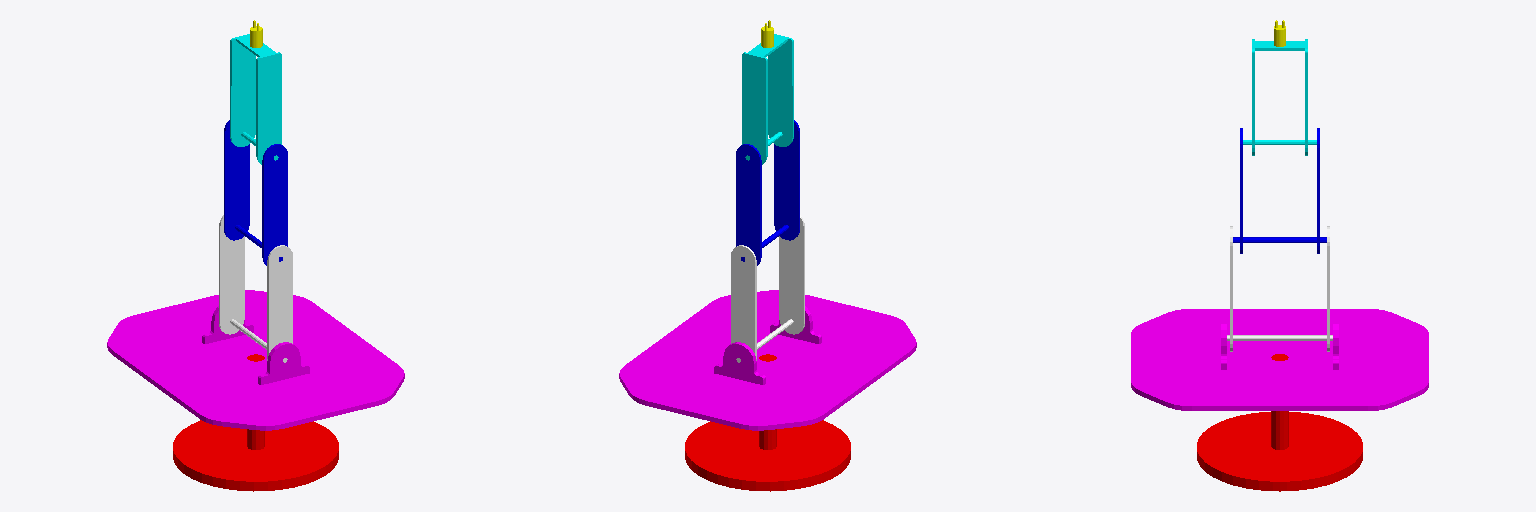
URDF robot description (five_dof):
<robot
  name="five_dof">
  <link
    name="base_link">
    <inertial>
      <origin
        xyz="0 0 0"
        rpy="0 0 0" />
      <mass
        value="0.718344795197391" />
      <inertia
        ixx="0.00272700103043121"
        ixy="8.12077533335742E-35"
        ixz="4.18350543794516E-19"
        iyy="0.0027270010304312"
        iyz="-1.00492647903297E-35"
        izz="0.00449649437672456" />
    </inertial>
    <visual>
      <origin
        xyz="0 0 0"
        rpy="0 0 0" />
      <geometry>
        <mesh
          filename="package://five_dof/meshes/base_link.STL" />
      </geometry>
      <material
        name="">
        <color
          rgba="1 0 0 1" />
      </material>
    </visual>
    <collision>
      <origin
        xyz="0 0 0"
        rpy="0 0 0" />
      <geometry>
        <mesh
          filename="package://five_dof/meshes/base_link.STL" />
      </geometry>
    </collision>
  </link>
  <link
    name="link1">
    <inertial>
      <origin
        xyz="0 0 0"
        rpy="0 0 0" />
      <mass
        value="0.995589899656939" />
      <inertia
        ixx="0.00773827265273582"
        ixy="-3.96163317360492E-20"
        ixz="3.60771308647399E-19"
        iyy="0.0206411399272416"
        iyz="-6.09550719073123E-20"
        izz="0.0129873645793082" />
    </inertial>
    <visual>
      <origin
        xyz="0 0 0"
        rpy="1.570796 0 1.570796" />
      <geometry>
        <mesh
          filename="package://five_dof/meshes/link1.STL" />
      </geometry>
      <material
        name="">
        <color
          rgba="1 0 1 1" />
      </material>
    </visual>
    <collision>
      <origin
        xyz="0 0 0"
        rpy="1.570796 0 1.570796" />
      <geometry>
        <mesh
          filename="package://five_dof/meshes/link1.STL" />
      </geometry>
    </collision>
  </link>
  <joint
    name="joint1"
    type="revolute">
    <origin
      xyz="0 0 0.1455"
      rpy="0 0 0" />
    <parent
      link="base_link" />
    <child
      link="link1" />
    <axis
      xyz="0 0 1" />
    <limit
      lower="-3.14"
      upper="3.14"
      effort="2"
      velocity="0.03" />
  </joint>
  <link
    name="link2">
    <inertial>
      <origin
        xyz="0 0 0"
        rpy="0 0 0" />
      <mass
        value="0.0625646003293849" />
      <inertia
        ixx="0.000199617532158759"
        ixy="1.57210365032874E-19"
        ixz="1.75236458494176E-20"
        iyy="0.000277804415808805"
        iyz="-5.48524335607533E-20"
        izz="0.000463316673796461" />
    </inertial>
    <visual>
      <origin
        xyz="0 0 0"
        rpy="0 0 -1.570796" />
      <geometry>
        <mesh
          filename="package://five_dof/meshes/link2.STL" />
      </geometry>
      <material
        name="">
        <color
          rgba="1 1 1 1" />
      </material>
    </visual>
    <collision>
      <origin
        xyz="0 0 0"
        rpy="0 0 -1.570796" />
      <geometry>
        <mesh
          filename="package://five_dof/meshes/link2.STL" />
      </geometry>
    </collision>
  </link>
  <joint
    name="joint2"
    type="revolute">
    <origin
      xyz="0 0 0.0375"
      rpy="0 0 0" />
    <parent
      link="link1" />
    <child
      link="link2" />
    <axis
      xyz="0 -1 0" />
    <limit
      lower="0.72"
      upper="2.42"
      effort="2"
      velocity="0.03" />
  </joint>
  <link
    name="link3">
    <inertial>
      <origin
        xyz="0 0 0"
        rpy="0 0 0" />
      <mass
        value="0.0613079632679489" />
      <inertia
        ixx="0.000194034032210468"
        ixy="1.44422879736118E-19"
        ixz="3.26604718320211E-21"
        iyy="0.00017906448883636"
        iyz="2.35137097172607E-20"
        izz="0.000359003299972217" />
    </inertial>
    <visual>
      <origin
        xyz="0 0 0"
        rpy="0 0 -1.570796" />
      <geometry>
        <mesh
          filename="package://five_dof/meshes/link3.STL" />
      </geometry>
      <material
        name="">
        <color
          rgba="0 0 1 1" />
      </material>
    </visual>
    <collision>
      <origin
        xyz="0 0 0"
        rpy="0 0 -1.570796" />
      <geometry>
        <mesh
          filename="package://five_dof/meshes/link3.STL" />
      </geometry>
    </collision>
  </link>
  <joint
    name="joint3"
    type="revolute">
    <origin
      xyz="0.152 0 0"
      rpy="0 0 0" />
    <parent
      link="link2" />
    <child
      link="link3" />
    <axis
      xyz="0 -1 0" />
    <limit
      lower="-2.0"
      upper="2.0"
      effort="2"
      velocity="0.03" />
  </joint>
  <link
    name="link4">
    <inertial>
      <origin
        xyz="0 0 0"
        rpy="0 0 0" />
      <mass
        value="0.061409501429103" />
      <inertia
        ixx="8.35392002721132E-05"
        ixy="-1.19810313884484E-19"
        ixz="-1.24592318331321E-18"
        iyy="0.000188758404783979"
        iyz="1.60532938483512E-20"
        izz="0.000258460264044084" />
    </inertial>
    <visual>
      <origin
        xyz="0 -0.01 0"
        rpy="0 0 -3.141592" />
      <geometry>
        <mesh
          filename="package://five_dof/meshes/link4.STL" />
      </geometry>
      <material
        name="">
        <color
          rgba="0 1 1 1" />
      </material>
    </visual>
    <collision>
      <origin
        xyz="0 -0.01 0"
        rpy="0 0 -3.141592" />
      <geometry>
        <mesh
          filename="package://five_dof/meshes/link4.STL" />
      </geometry>
    </collision>
  </link>
  <joint
    name="joint4"
    type="revolute">
    <origin
      xyz="0.152 0 0"
      rpy="0 0 0" />
    <parent
      link="link3" />
    <child
      link="link4" />
    <axis
      xyz="0 -1 0" />
    <limit
      lower="-2.5"
      upper="2.5"
      effort="2"
      velocity="0.03" />
  </joint>
  <link
    name="link5">
    <inertial>
      <origin
        xyz="0 0 0"
        rpy="0 0 0" />
      <mass
        value="0.00788539756051039" />
      <inertia
        ixx="8.26817694867261E-07"
        ixy="-1.4844091825431E-24"
        ixz="1.7705213299822E-25"
        iyy="3.15965681134794E-07"
        iyz="-1.29538561575541E-23"
        izz="8.33100880174441E-07" />
    </inertial>
    <visual>
      <origin
        xyz="0 0 0"
        rpy="0 0 -1.570796" />
      <geometry>
        <mesh
          filename="package://five_dof/meshes/link5.STL" />
      </geometry>
      <material
        name="">
        <color
          rgba="1 1 0 1" />
      </material>
    </visual>
    <collision>
      <origin
        xyz="0 0 0"
        rpy="0 0 -1.570796" />
      <geometry>
        <mesh
          filename="package://five_dof/meshes/link5.STL" />
      </geometry>
    </collision>
  </link>
  <joint
    name="joint5"
    type="revolute">
    <origin
      xyz="0.14825 0 0"
      rpy="0 0 0" />
    <parent
      link="link4" />
    <child
      link="link5" />
    <axis
      xyz="1 0 0" />
    <limit
      lower="-3.14"
      upper="3.14"
      effort="2"
      velocity="0.03" />
  </joint>
</robot>

--- Render facts (derived) ---
Views: 3 orthographic renders of the robot side by side, from view 1: azimuth 30°, elevation 25°; view 2: azimuth 150°, elevation 25°; view 3: azimuth 270°, elevation 25°.
Robot: five_dof — 6 links, 5 joints (5 revolute); root link base_link; default pose: all joints at 0 but 1 set to mid-range because 0 is outside their limits (joint2 = 1.57).
Visible links, largest first — view 1: link1, base_link, link4, link3, link2; view 2: link1, base_link, link4, link3, link2; view 3: link1, base_link, link4, link2, link3.
Link boxes in pixels (x1=…): link1: x1=107, y1=290, x2=404, y2=430; base_link: x1=173, y1=354, x2=338, y2=491; link4: x1=230, y1=34, x2=281, y2=164; link3: x1=224, y1=120, x2=287, y2=265; link2: x1=219, y1=215, x2=292, y2=362; link1: x1=619, y1=290, x2=916, y2=430; base_link: x1=685, y1=354, x2=850, y2=491; link4: x1=742, y1=34, x2=793, y2=164; link3: x1=736, y1=120, x2=799, y2=265; link2: x1=731, y1=215, x2=804, y2=362; link1: x1=1131, y1=309, x2=1428, y2=410; base_link: x1=1197, y1=354, x2=1362, y2=491; link4: x1=1243, y1=39, x2=1316, y2=155; link2: x1=1227, y1=226, x2=1332, y2=351; link3: x1=1233, y1=128, x2=1326, y2=253.
Bounding box of the posed robot: 0.325 × 0.42 × 0.6753 m (x, y, z).
6 mesh visuals loaded from 6 distinct referenced files (6 binary STL).